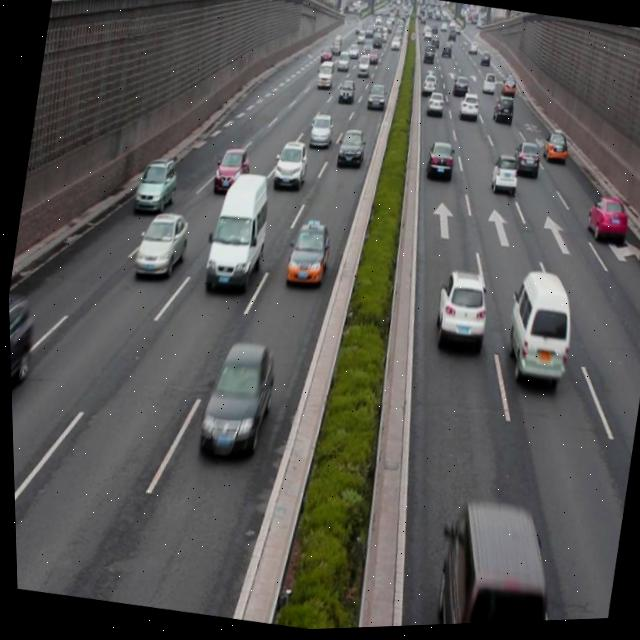car: (192, 335, 277, 462), (428, 267, 491, 348), (7, 288, 43, 416), (131, 209, 192, 282), (281, 220, 331, 290), (130, 153, 181, 216), (581, 196, 628, 249), (269, 138, 308, 191), (210, 146, 251, 193), (422, 139, 456, 185), (486, 156, 520, 200), (333, 128, 366, 171), (510, 143, 542, 185), (539, 131, 569, 170), (305, 114, 335, 151), (456, 95, 481, 125), (363, 85, 386, 115), (334, 78, 356, 107), (490, 99, 513, 126), (423, 90, 444, 117)
truck: (423, 493, 567, 628), (199, 167, 275, 297), (497, 269, 577, 386)
